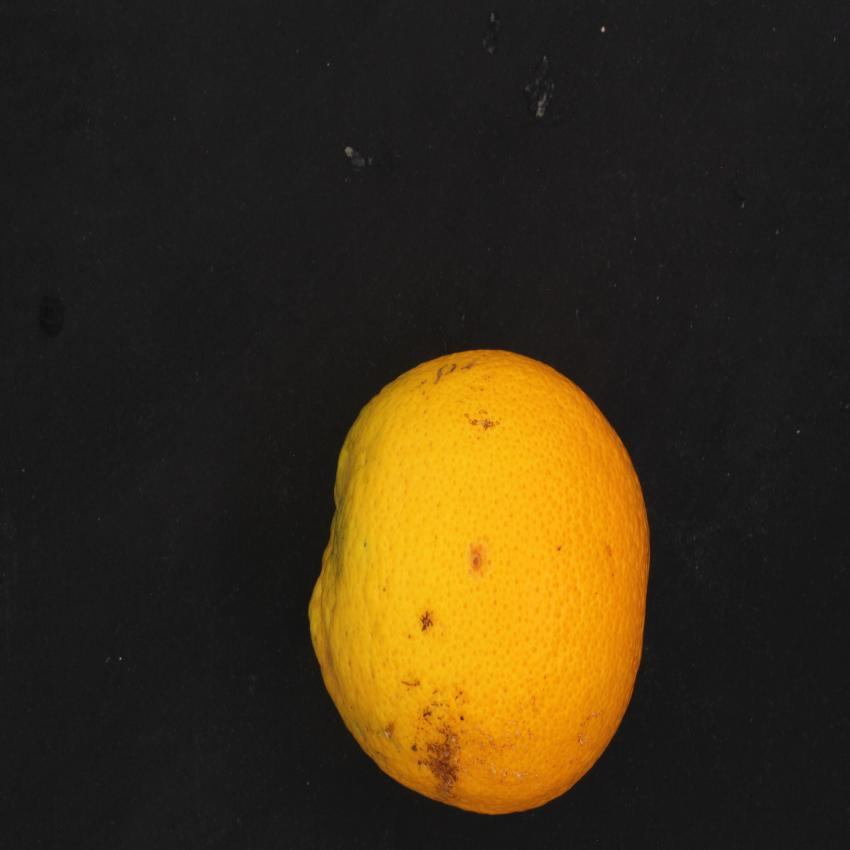Buen estado: (303, 336, 670, 825)
